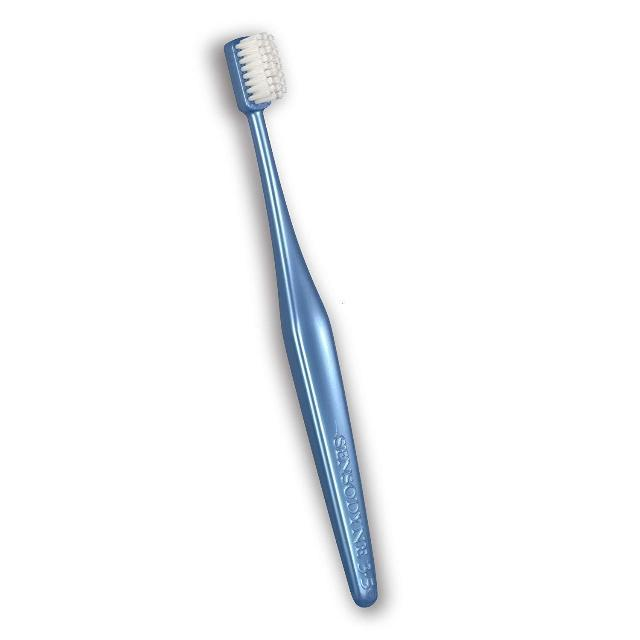toothbrush: (187, 18, 421, 614)
